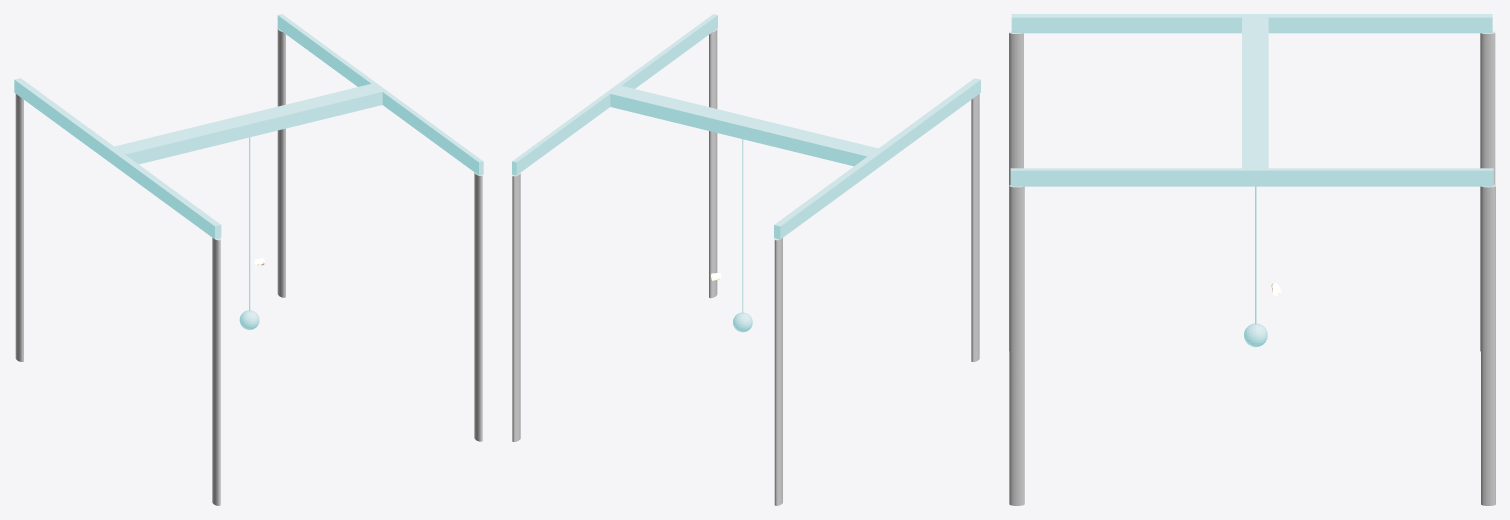
Rendered from pendulum.glb.
3 renders of one model, left to right at view 1: azimuth 30°, elevation 25°; view 2: azimuth 150°, elevation 25°; view 3: azimuth 270°, elevation 25°, orthographic. The views are drawn at different scales.
Parts seen in each view (by area): view 1: pendulumtop, Cylinder.002, Cylinder; view 2: pendulumtop, Cylinder.002, Cylinder; view 3: pendulumtop, Cylinder.002, Cylinder.
Boxes of the visible parts, x1,y1,x2,y2 form: pendulumtop: (14,14,483,239); Cylinder.002: (15,28,482,505); Cylinder: (239,137,259,329); pendulumtop: (512,14,980,239); Cylinder.002: (512,29,979,505); Cylinder: (733,139,752,332); pendulumtop: (1010,14,1493,186); Cylinder.002: (1009,31,1495,505); Cylinder: (1244,186,1267,347).
Bounding box in the file's own units: 0.5113 × 0.5085 × 0.6699.
